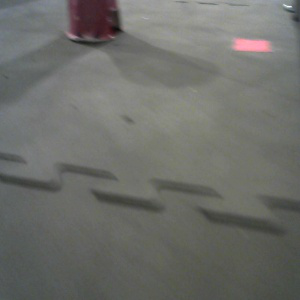right: (64, 1, 122, 44)
